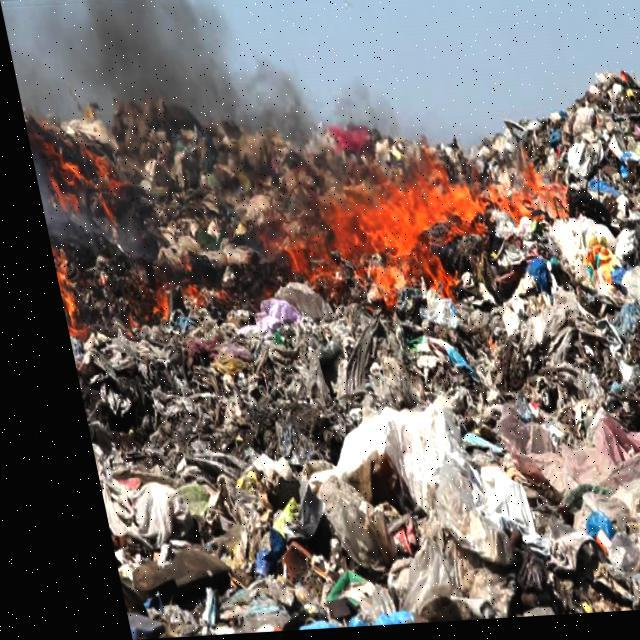Fire: (258, 179, 470, 312), (24, 138, 134, 338)
